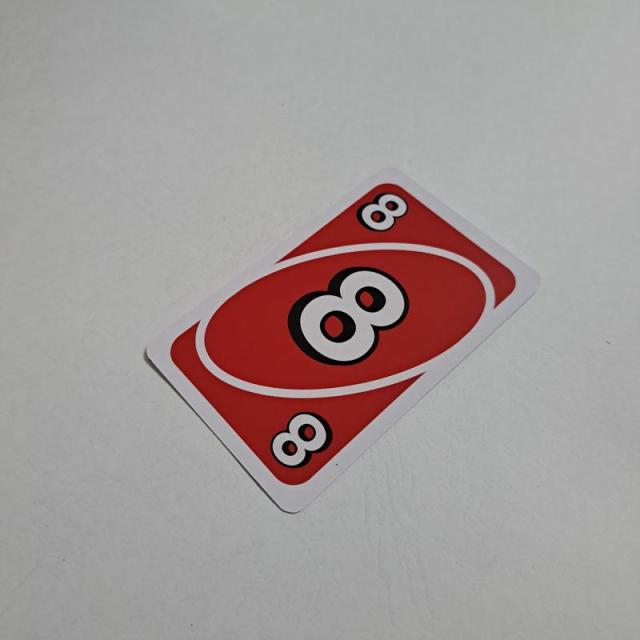Number_8: (356, 186, 414, 236)
Red_Card: (166, 177, 526, 488)
